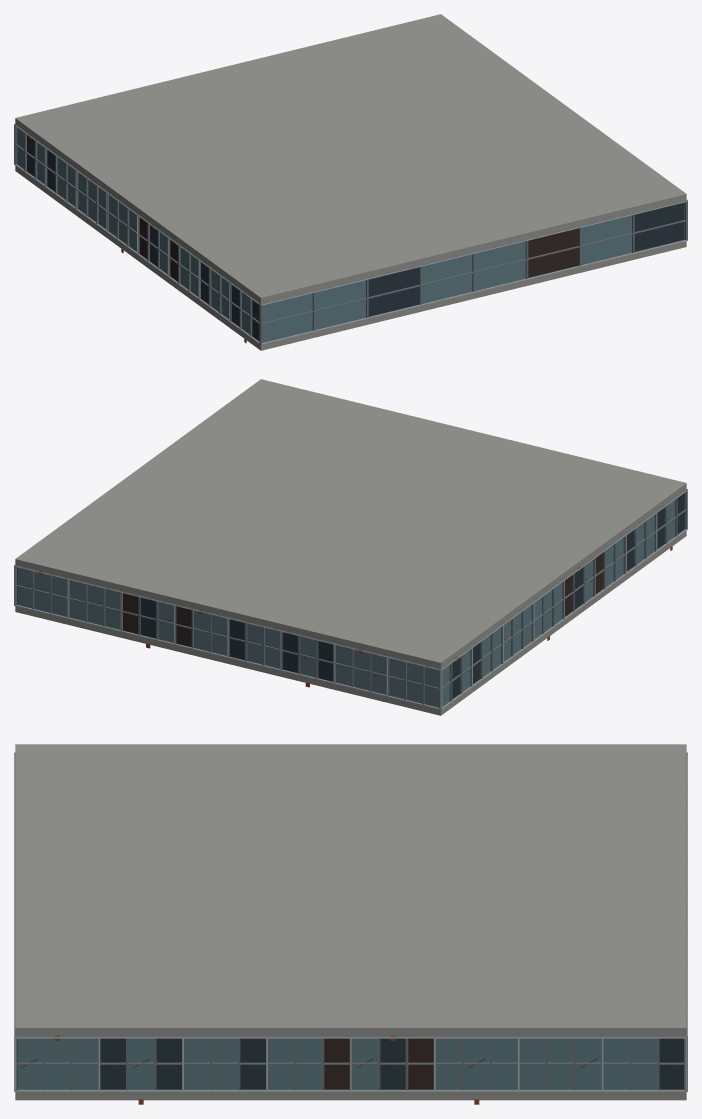
The model's file is tw_glass_32_floor_b.glb.
The picture shows the model from 3 angles, top to bottom: view 1: azimuth 30°, elevation 25°; view 2: azimuth 150°, elevation 25°; view 3: azimuth 270°, elevation 25°; orthographic projection. The views are drawn at different scales.
Parts seen in each view (by area): view 1: tw_glass_32_floor_b; view 2: tw_glass_32_floor_b; view 3: tw_glass_32_floor_b.
Boxes of the visible parts, box(x1,y1,x2,y2) form: tw_glass_32_floor_b: box(14, 14, 687, 350); tw_glass_32_floor_b: box(14, 379, 687, 715); tw_glass_32_floor_b: box(14, 744, 687, 1104).
Bounding box in the file's own units: 32.14 × 4.05 × 32.14.
Materials: 3 (3 with a texture image).
